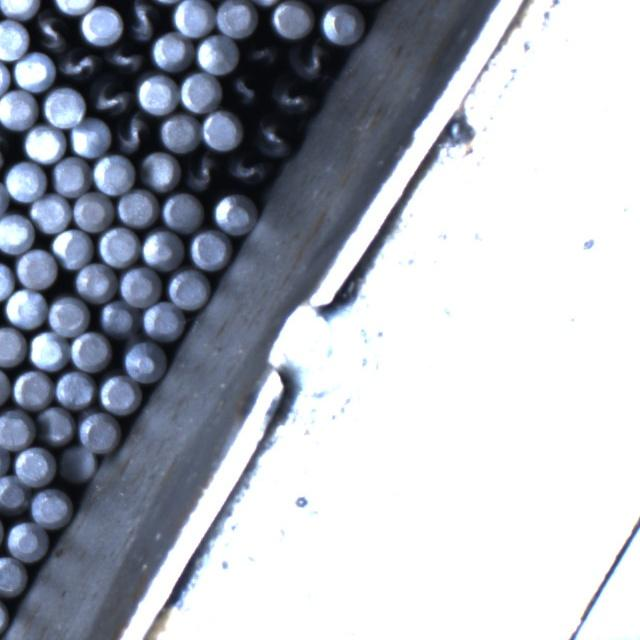tool: (320, 3, 364, 45), (136, 72, 180, 113), (213, 193, 257, 234), (142, 228, 184, 270), (43, 85, 86, 126), (91, 153, 133, 194), (80, 4, 122, 45), (178, 72, 220, 113), (5, 288, 48, 328), (120, 266, 163, 306), (160, 191, 203, 231), (50, 228, 92, 268), (97, 226, 139, 266), (75, 262, 117, 302), (200, 110, 242, 150), (71, 191, 113, 231), (195, 34, 238, 73), (22, 123, 65, 162), (11, 369, 52, 409), (98, 372, 139, 412), (17, 249, 58, 289), (144, 300, 185, 340), (80, 410, 120, 451), (72, 332, 113, 372), (15, 446, 56, 486), (168, 267, 208, 308), (5, 160, 46, 200), (49, 295, 90, 335), (30, 330, 70, 370), (14, 50, 54, 90), (124, 340, 164, 380), (190, 228, 230, 268), (140, 151, 180, 191), (31, 489, 72, 528), (55, 369, 96, 408), (117, 188, 158, 227), (152, 30, 193, 69), (70, 117, 111, 156), (52, 156, 91, 197), (216, 0, 258, 38), (270, 0, 313, 37), (36, 406, 76, 445), (8, 520, 48, 559), (31, 193, 71, 232), (160, 113, 200, 152), (0, 88, 38, 129), (100, 300, 140, 338), (172, 0, 213, 36), (60, 444, 97, 483), (0, 407, 34, 449), (0, 212, 33, 253), (0, 475, 30, 515), (0, 17, 27, 59), (0, 325, 26, 366), (0, 555, 24, 594), (0, 0, 40, 16), (0, 261, 15, 301), (52, 0, 98, 13), (0, 442, 12, 477), (0, 364, 10, 405), (0, 59, 10, 100), (0, 595, 8, 637), (0, 179, 8, 218)
tool_b: (292, 42, 332, 82), (124, 1, 162, 43), (32, 11, 70, 52), (57, 47, 100, 83), (89, 79, 130, 115), (225, 152, 268, 186), (183, 153, 221, 191), (112, 115, 150, 153), (255, 119, 292, 158), (272, 80, 312, 116), (102, 41, 144, 75), (243, 39, 279, 71), (230, 72, 260, 106)
